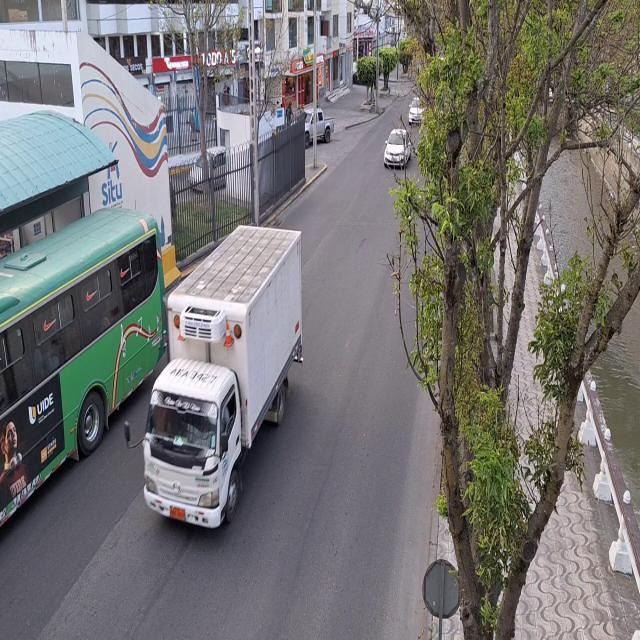BUS: (0, 208, 166, 532)
TRUCK: (140, 226, 304, 526)
